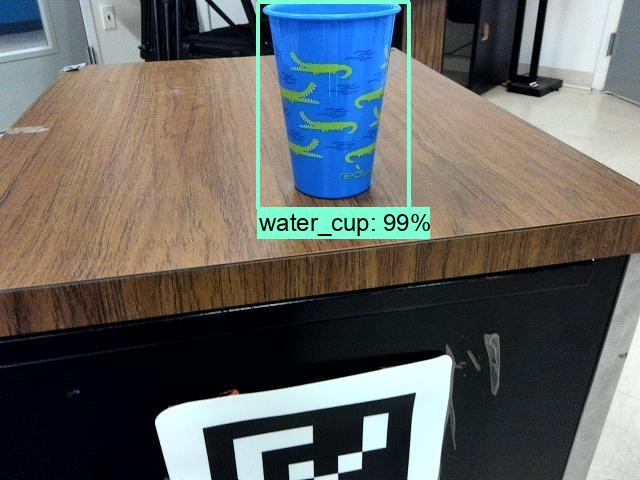water_cup: (258, 1, 404, 219)
